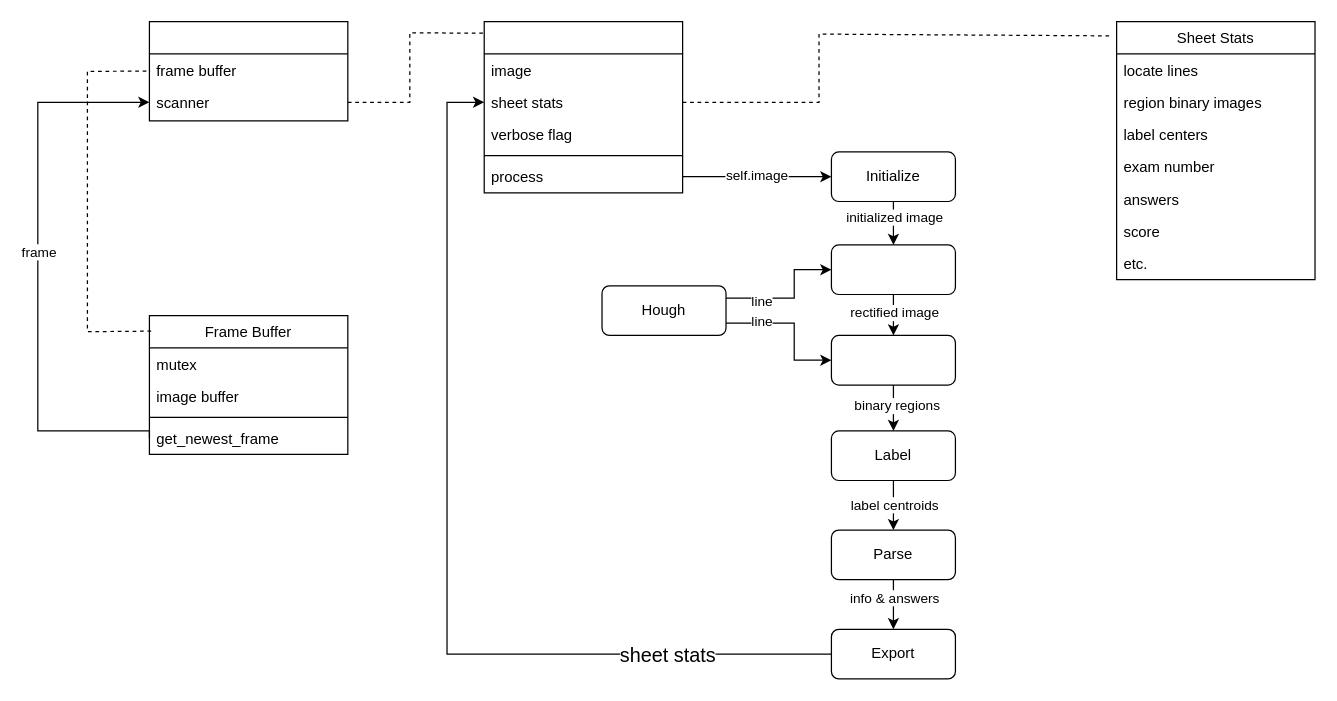
This 1337x701 diagram has some shape labels left out. Each missing label, with the box of its shape:
AnswerSheetScanner: (483, 20, 683, 193)
Main: (148, 20, 348, 121)
Rectify: (830, 244, 955, 294)
Segment: (830, 334, 955, 385)
